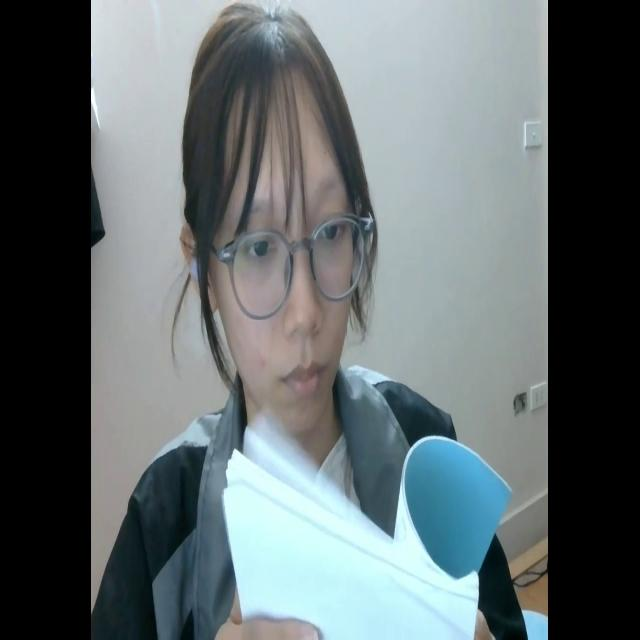book: (216, 410, 510, 640)
student: (103, 8, 526, 640)
